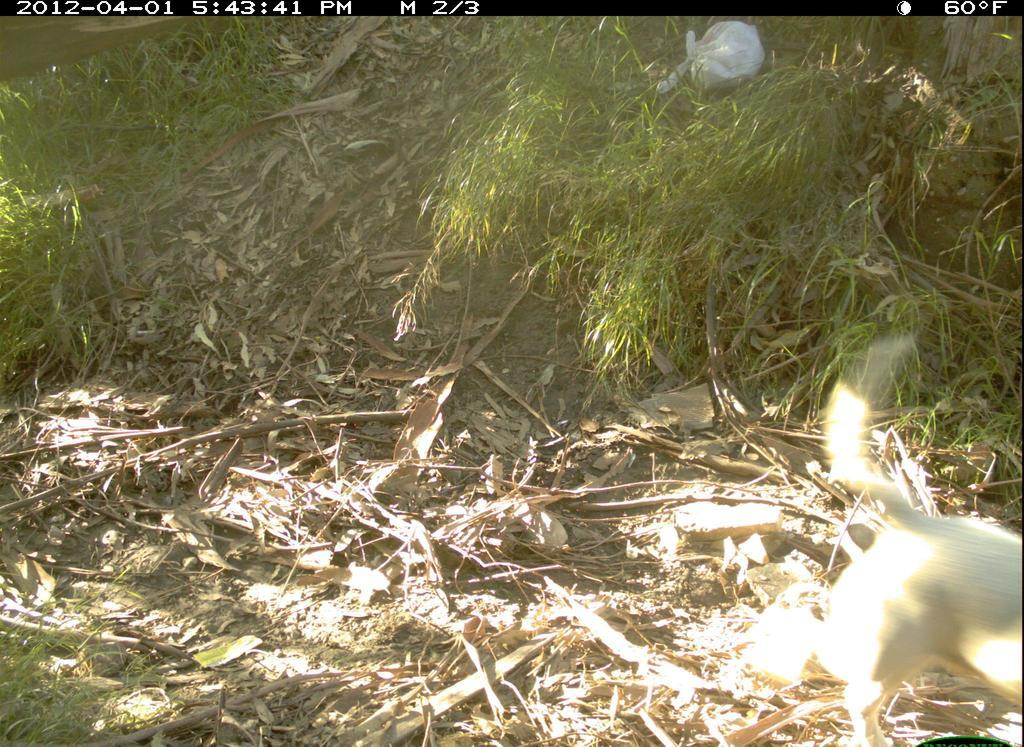dog: (766, 324, 1023, 734)
